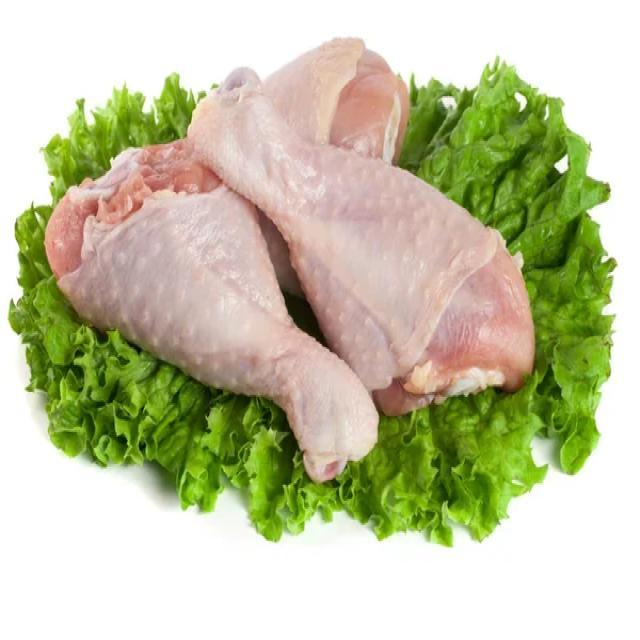leg: (187, 57, 531, 402), (54, 132, 370, 470), (237, 23, 412, 182)
